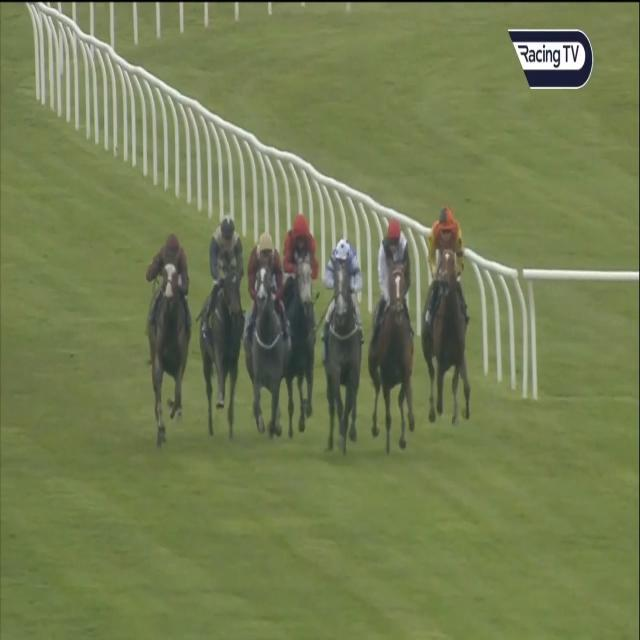horses-racing: (143, 238, 193, 432), (320, 235, 365, 446), (201, 214, 244, 426), (426, 209, 468, 424), (374, 224, 416, 438), (247, 236, 289, 434), (283, 218, 318, 435)
